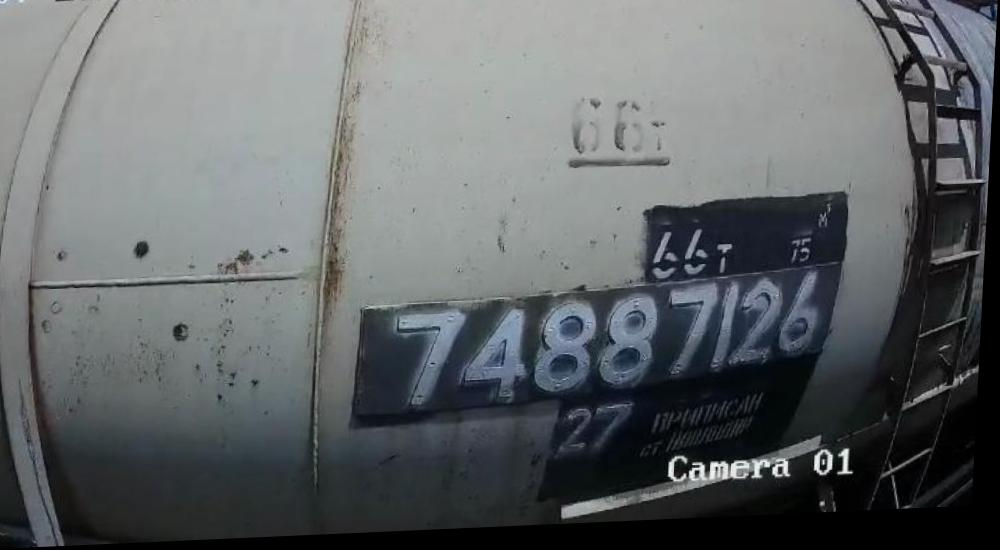Wagon-number: (382, 275, 834, 422)
